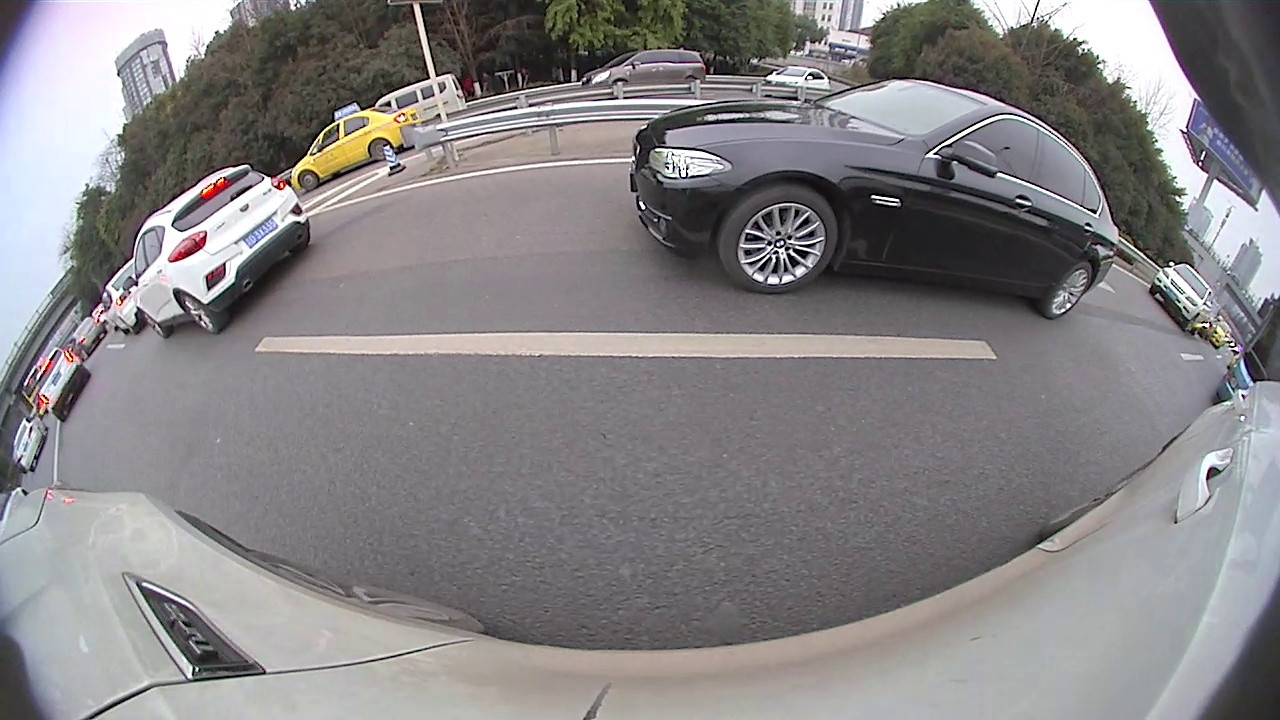car: (627, 74, 1119, 324), (128, 162, 313, 340), (286, 104, 422, 191), (575, 46, 711, 92), (376, 68, 473, 123), (31, 344, 96, 425), (1147, 261, 1219, 334), (91, 258, 146, 340), (9, 411, 51, 474)
front: (717, 179, 840, 297), (142, 309, 171, 339), (297, 169, 319, 192)
rear: (1037, 258, 1098, 321), (177, 289, 225, 337), (368, 137, 394, 162)
